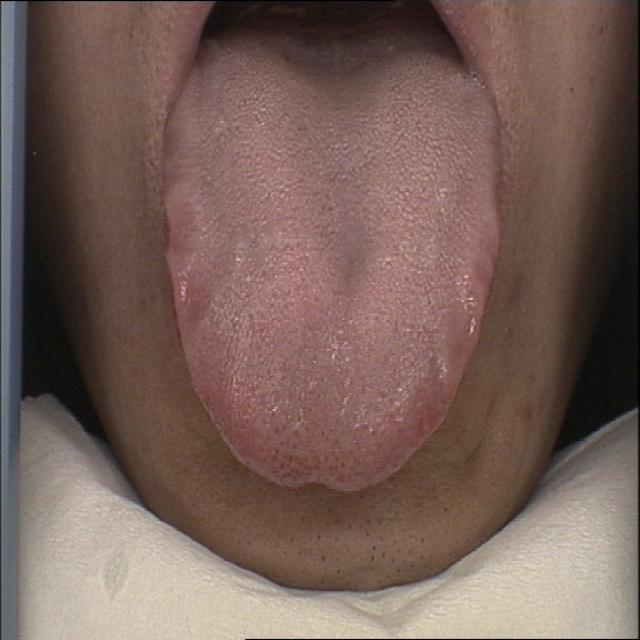tongue: (155, 27, 506, 504)
